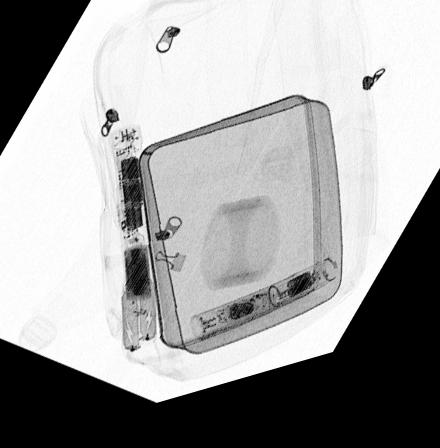Baton: (189, 275, 339, 352), (108, 131, 157, 360)
